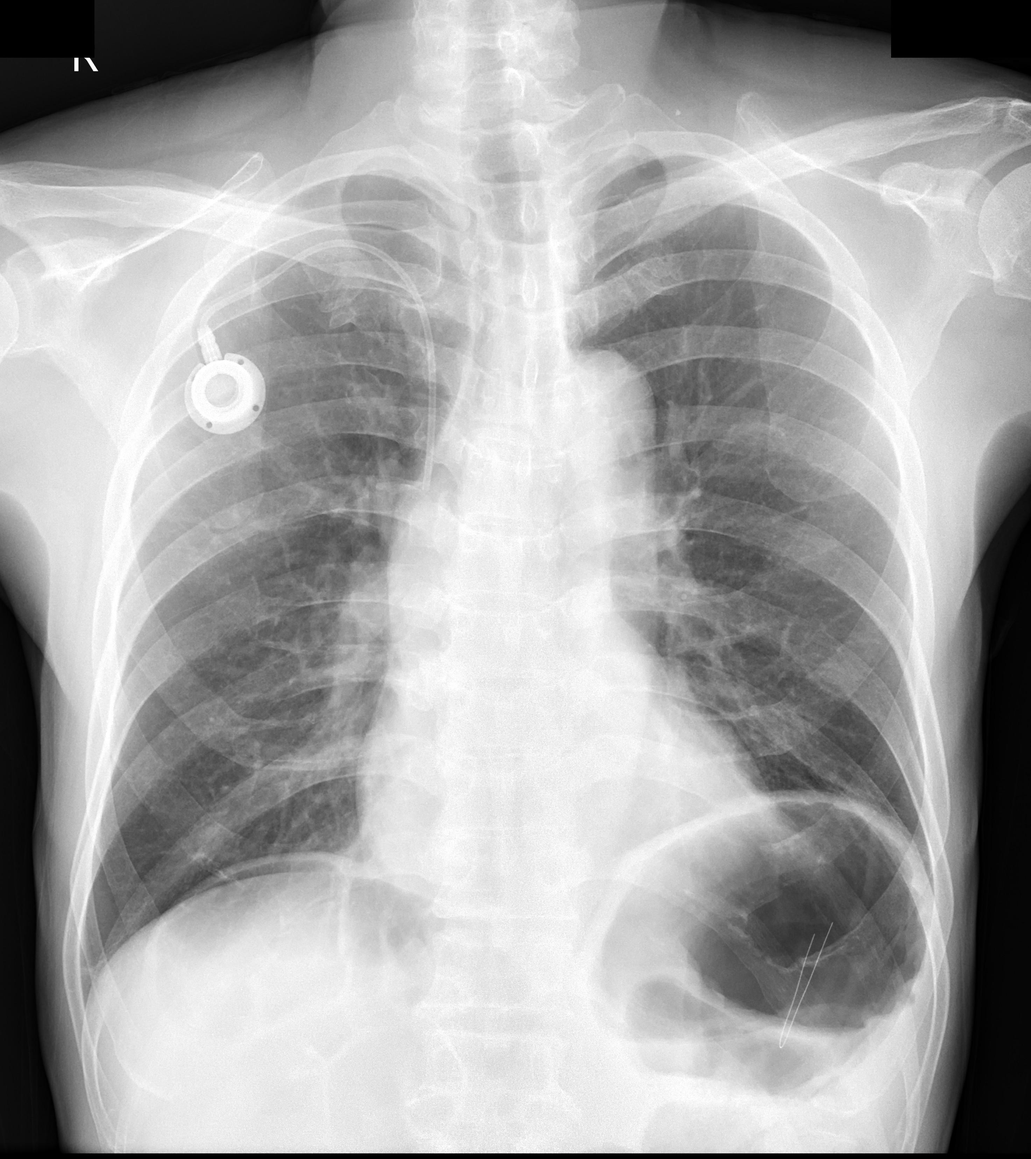Aortic enlargement: (517, 341, 658, 504)
